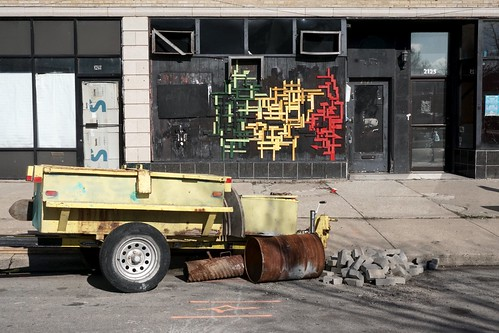building: (159, 1, 499, 170), (1, 1, 139, 161)
door: (74, 76, 122, 181), (347, 79, 388, 174)
trash: (37, 162, 429, 313)
